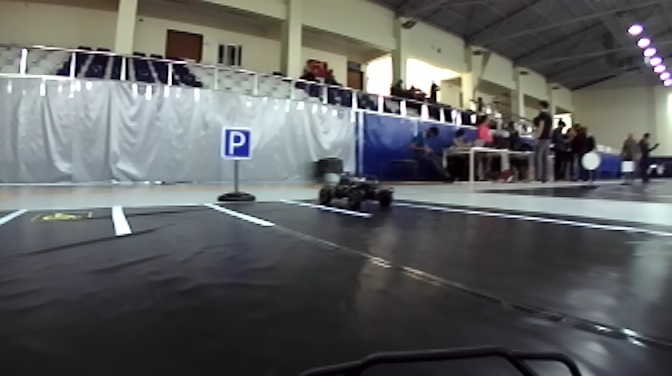park: (221, 124, 254, 163)
